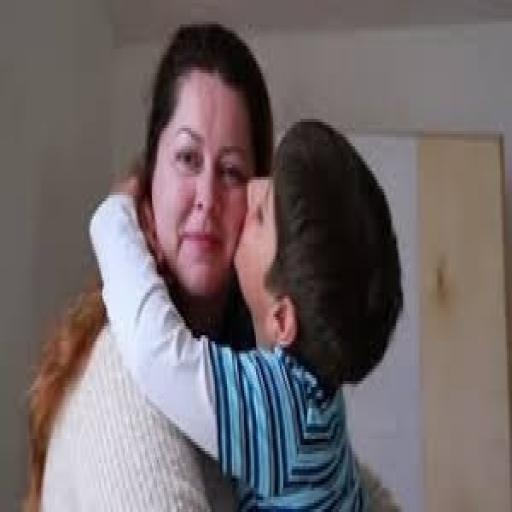hugging: (22, 18, 408, 509)
